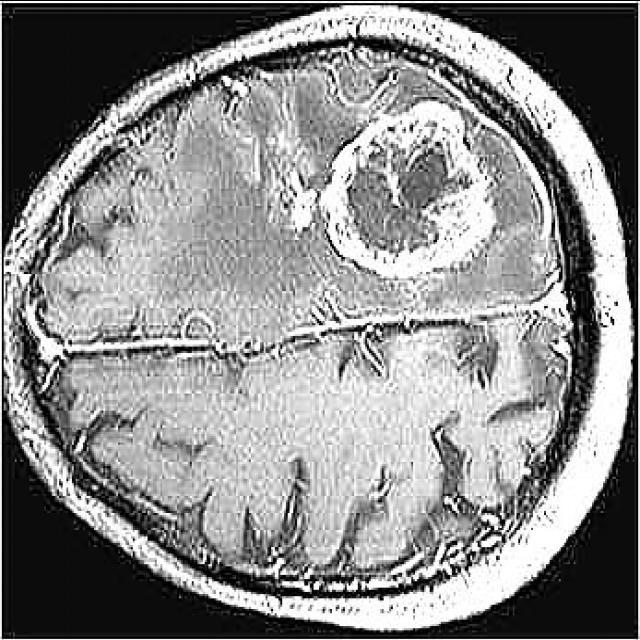tumor: (293, 100, 500, 277)
